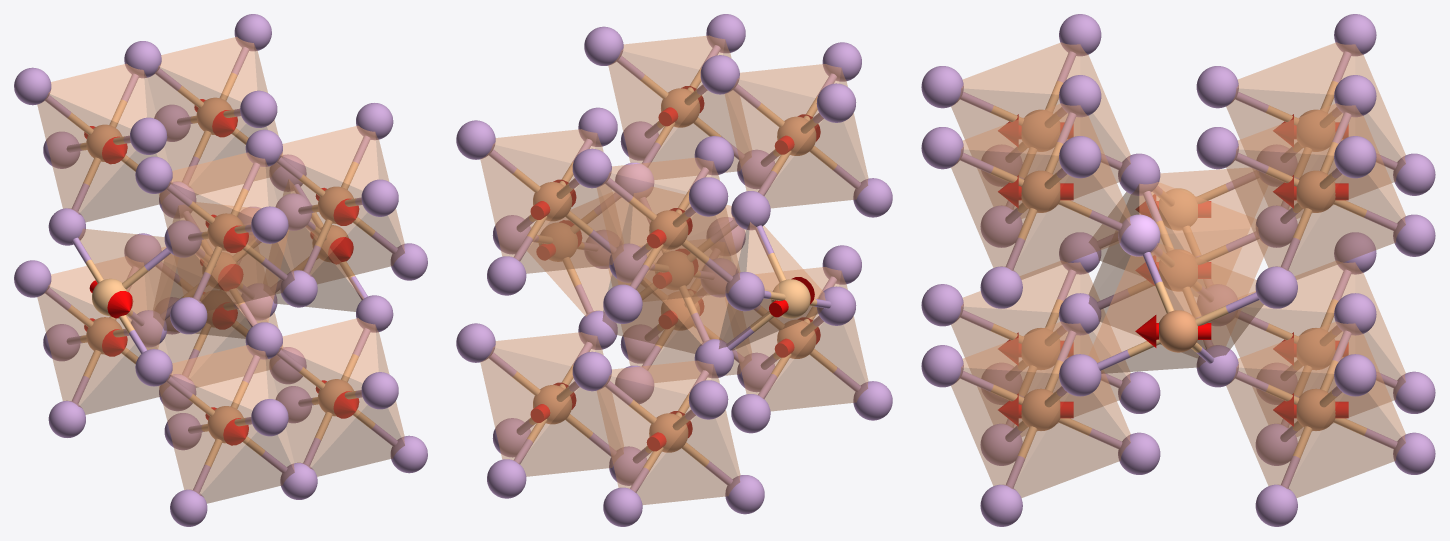
File: FeSb2.glb
The picture shows the model from 3 angles, left to right: view 1: azimuth 30°, elevation 25°; view 2: azimuth 150°, elevation 25°; view 3: azimuth 270°, elevation 25°; orthographic projection. The views are drawn at different scales.
Parts seen in each view (by area): view 1: polyhedra, atoms, bonds, magmoms; view 2: polyhedra, atoms, bonds, magmoms; view 3: polyhedra, atoms, bonds, magmoms.
Boxes of the visible parts, x1,y1,x2,y2 form: polyhedra: [37, 37, 404, 503]; atoms: [14, 14, 427, 526]; bonds: [45, 46, 397, 492]; magmoms: [84, 99, 359, 445]; polyhedra: [480, 35, 868, 504]; atoms: [456, 14, 892, 526]; bonds: [489, 45, 860, 492]; magmoms: [530, 86, 820, 451]; polyhedra: [951, 42, 1405, 497]; atoms: [921, 14, 1435, 526]; bonds: [960, 51, 1397, 487]; magmoms: [998, 114, 1348, 426].
Bounding box in the file's own units: 7.81 × 10.07 × 12.12.
